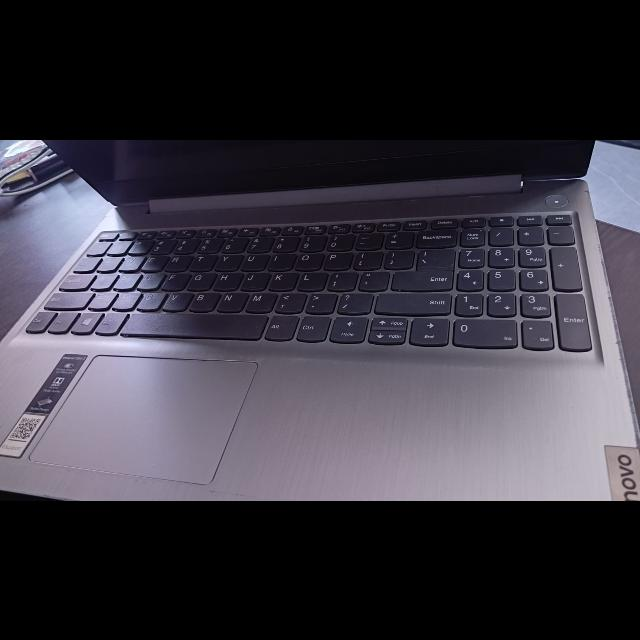laptop: (3, 139, 640, 495)
